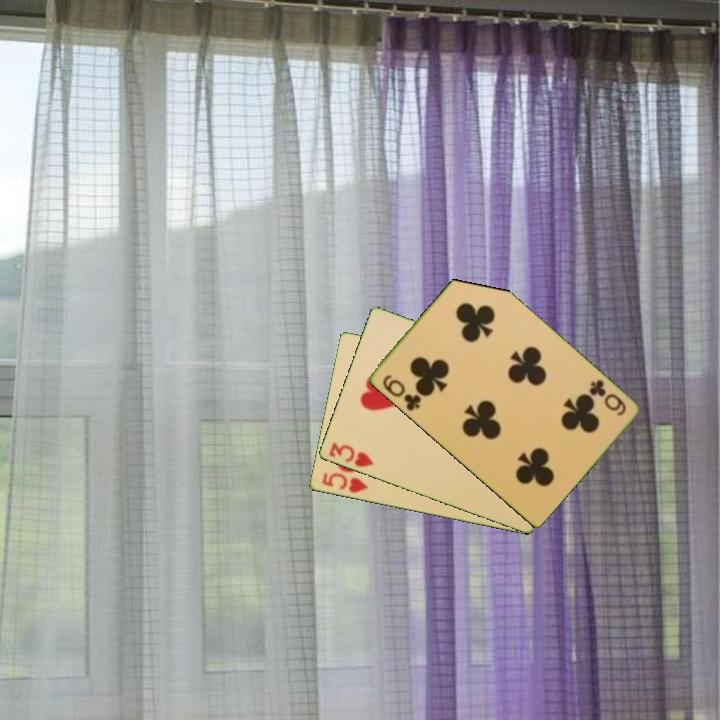3h: (325, 439, 376, 470)
5h: (318, 469, 370, 496)
6c: (378, 371, 424, 414), (585, 376, 629, 419)
